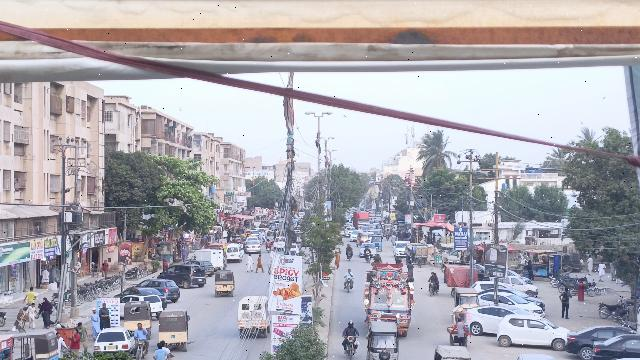Bike: (341, 333, 360, 359), (134, 338, 149, 360), (343, 276, 355, 294), (427, 279, 439, 297)
Bus: (365, 263, 413, 335)
Car: (494, 312, 569, 348), (565, 324, 630, 355), (464, 304, 519, 337), (158, 262, 208, 289), (94, 328, 133, 360), (590, 334, 638, 360)
Cart: (443, 306, 472, 343)
Person: (38, 295, 54, 329), (558, 287, 572, 320), (98, 301, 114, 328), (26, 301, 39, 328), (152, 340, 168, 360), (90, 306, 100, 336), (343, 319, 359, 337), (23, 285, 37, 305), (134, 321, 149, 339), (246, 251, 254, 273), (256, 252, 264, 273), (427, 270, 439, 282), (345, 267, 355, 278)
Rickshaw: (156, 310, 191, 349), (366, 320, 400, 360), (123, 301, 152, 333), (212, 268, 236, 300), (450, 286, 480, 311)
Truck: (235, 294, 270, 339), (193, 247, 225, 268)
Van: (226, 243, 243, 263)
